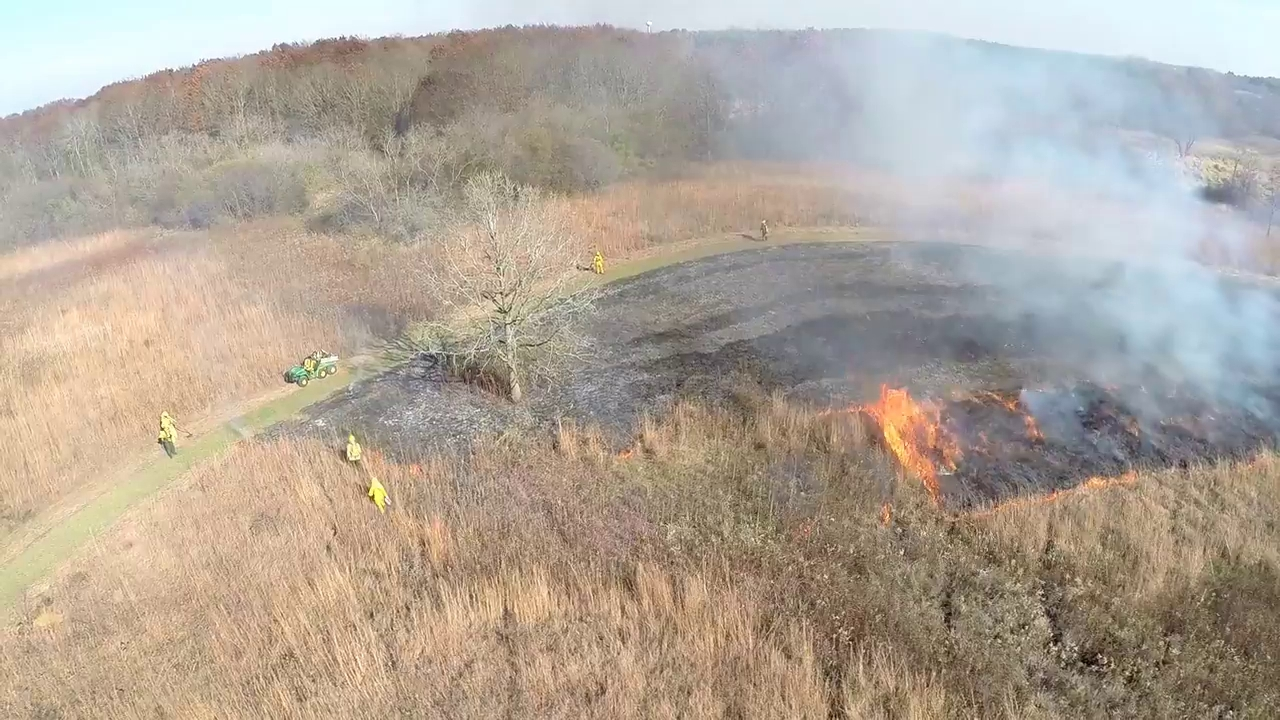forest_fire: (856, 385, 956, 506), (977, 471, 1136, 514)
